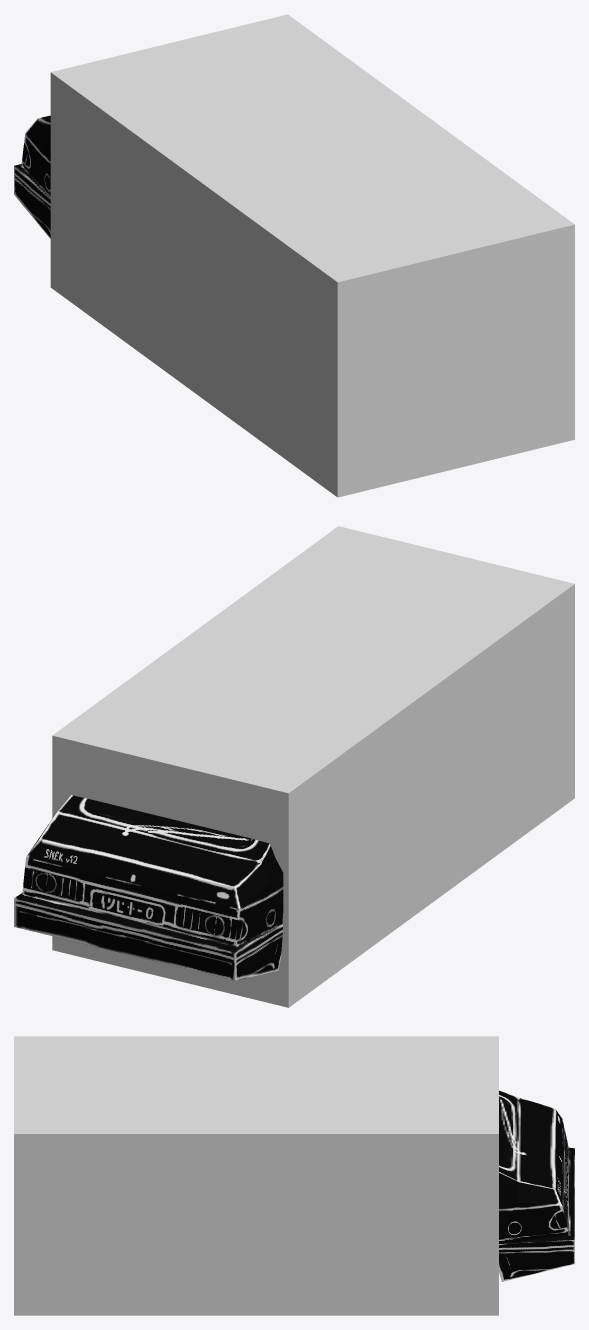
3 renders of one model, top to bottom at view 1: azimuth 30°, elevation 25°; view 2: azimuth 150°, elevation 25°; view 3: azimuth 270°, elevation 25°, orthographic. The views are drawn at different scales.
Parts seen in each view (by area): view 1: sierramur, sierra.001; view 2: sierramur, sierra.001; view 3: sierramur, sierra.001.
Boxes of the visible parts, x1=… form: sierramur: x1=50, y1=14, x2=574, y2=497; sierra.001: x1=14, y1=115, x2=50, y2=238; sierramur: x1=52, y1=526, x2=574, y2=1007; sierra.001: x1=14, y1=795, x2=283, y2=980; sierramur: x1=14, y1=1036, x2=498, y2=1315; sierra.001: x1=499, y1=1090, x2=574, y2=1281.
Bounding box in the file's own units: 2.31 × 2 × 5.6.
6 materials, 4 textured.
